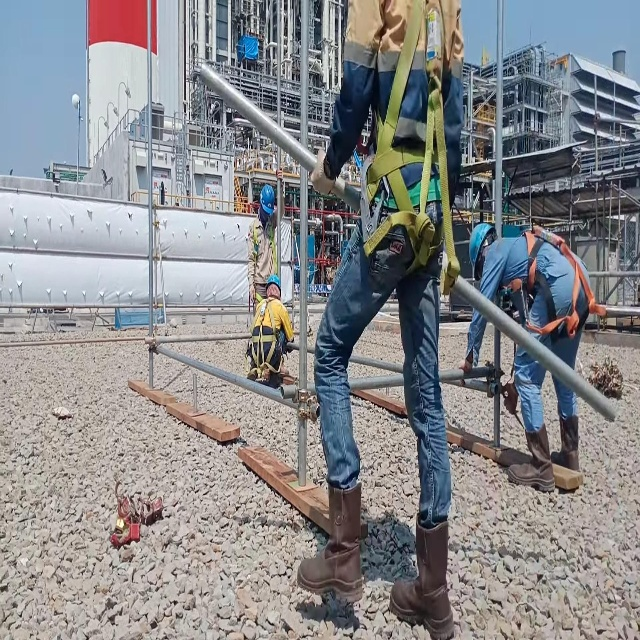Arnes_seguridad: (360, 0, 460, 297), (500, 223, 608, 343), (246, 296, 285, 381)
